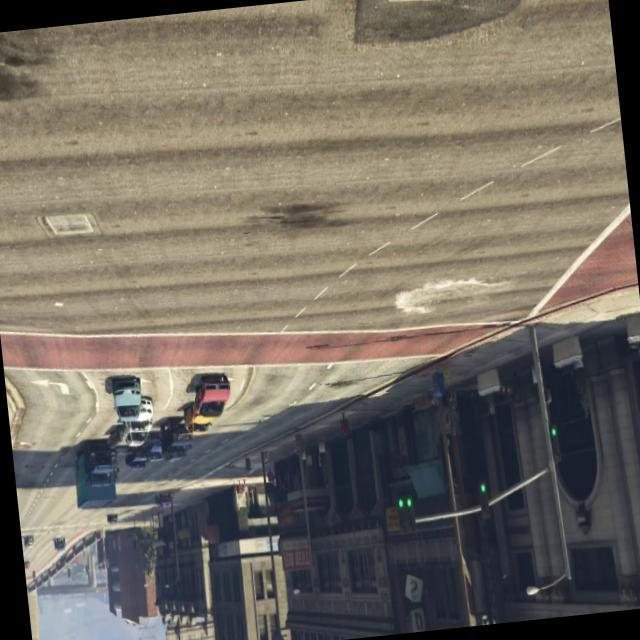Green-Signal: (388, 473, 423, 544), (542, 404, 568, 474), (472, 467, 496, 530)
